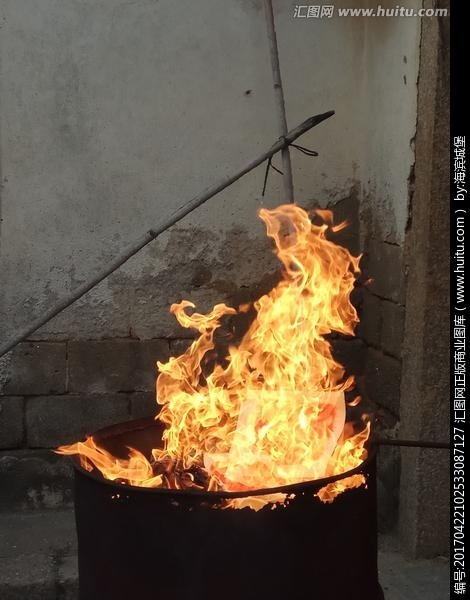fire: (149, 177, 369, 512)
